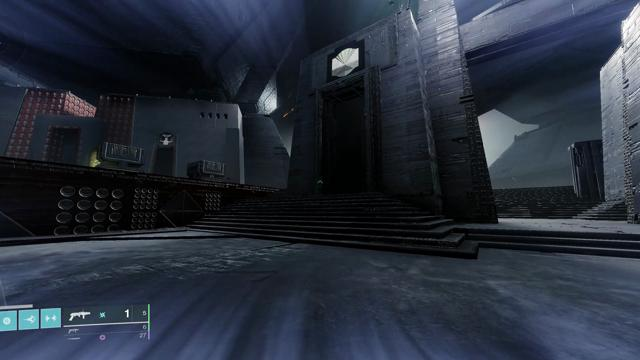commune: (332, 48, 359, 77)
drink: (158, 132, 174, 145)
